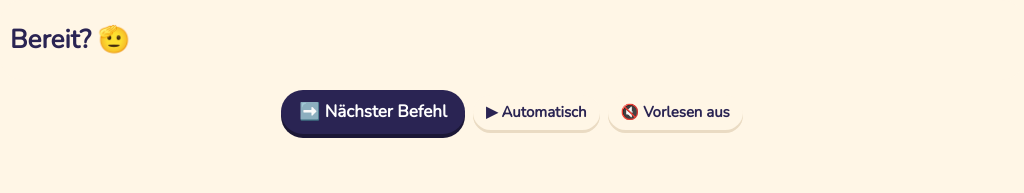
Test: commands › nächster Befehl zeigt Kommando und Befehl
Expected: the text "Bereit? 🫡" is shown, left=0, top=0, right=1023, bottom=80
Click the button "➡️ Nächster Befehl" at {"x": 373, "y": 112}, box left=281, top=90, right=465, bottom=134
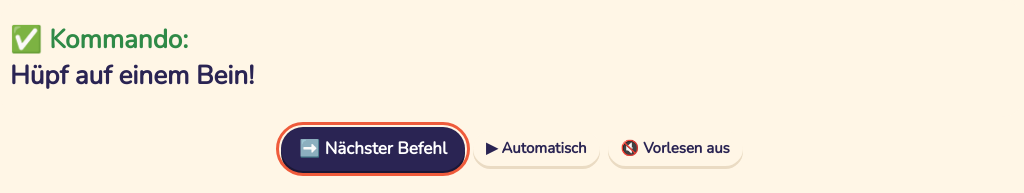
Now the text "✅ Kommando:" is shown, box left=10, top=22, right=188, bottom=57
Now the text "✅ Kommando:Hüpf auf einem Bein!" is shown
